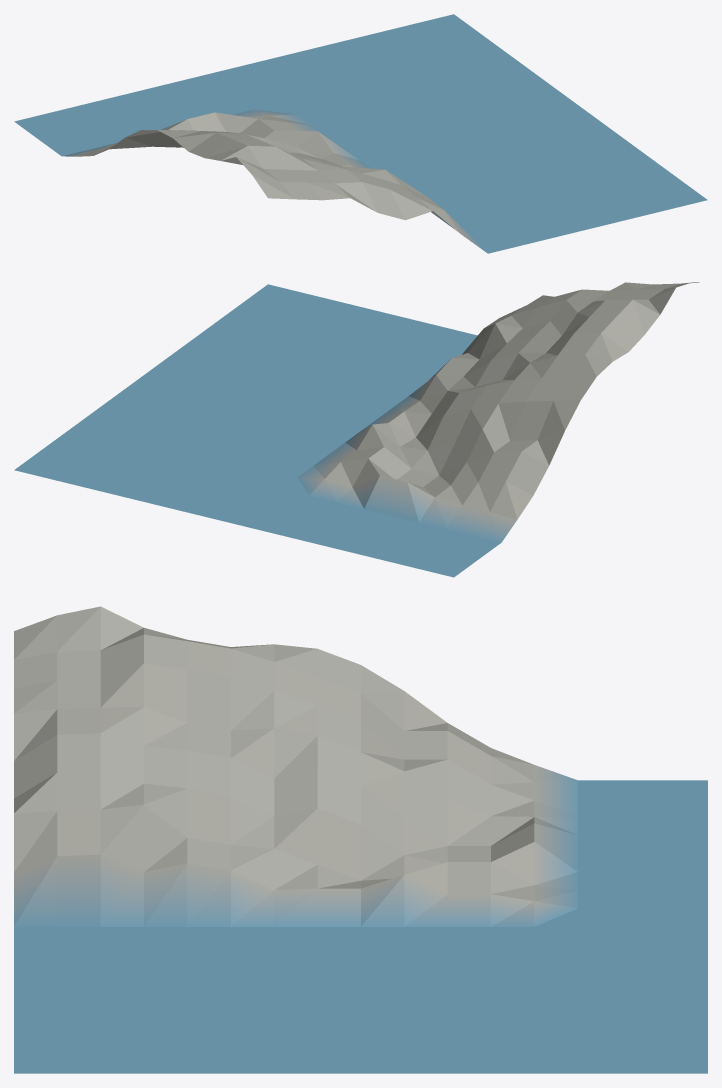
3 renders of one model, top to bottom at view 1: azimuth 30°, elevation 25°; view 2: azimuth 150°, elevation 25°; view 3: azimuth 270°, elevation 25°, orthographic. The views are drawn at different scales.
Size of the model in its own units: 32 by 8.84 by 32.
